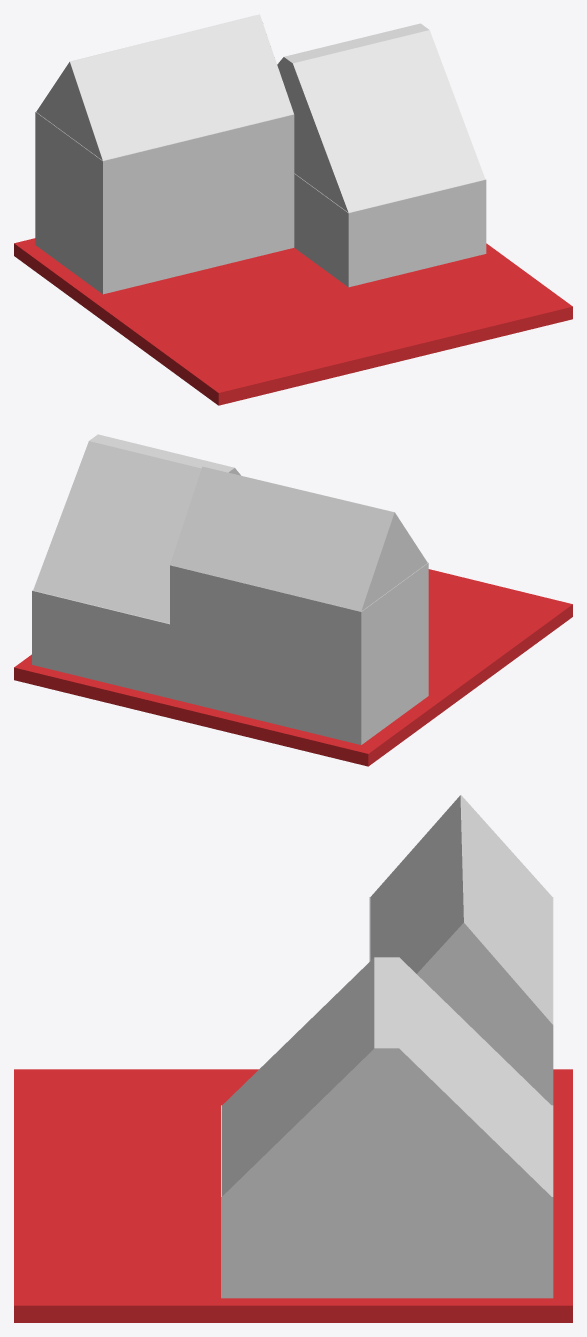
3 renders of one model, top to bottom at view 1: azimuth 30°, elevation 25°; view 2: azimuth 150°, elevation 25°; view 3: azimuth 270°, elevation 25°, orthographic. The views are drawn at different scales.
Visible parts, largest first — view 1: Cube.001, Cube, Cube.002, Cube.003; view 2: Cube.001, Cube.003, Cube, Cube.002; view 3: Cube, Cube.002, Cube.001, Cube.003.
Part boxes in pixels (box(x1,y1,x2,y2)): Cube.001: box(35, 112, 486, 294); Cube: box(14, 238, 572, 405); Cube.002: box(277, 23, 485, 212); Cube.003: box(36, 14, 293, 160); Cube.001: box(32, 562, 428, 744); Cube.003: box(169, 466, 427, 611); Cube: box(14, 569, 572, 766); Cube.002: box(33, 434, 240, 623); Cube: box(14, 1069, 572, 1322); Cube.002: box(222, 957, 551, 1196); Cube.001: box(221, 897, 553, 1298); Cube.003: box(370, 795, 552, 1025).
Bounding box in the file's own units: 9.87 × 5.87 × 9.87.
